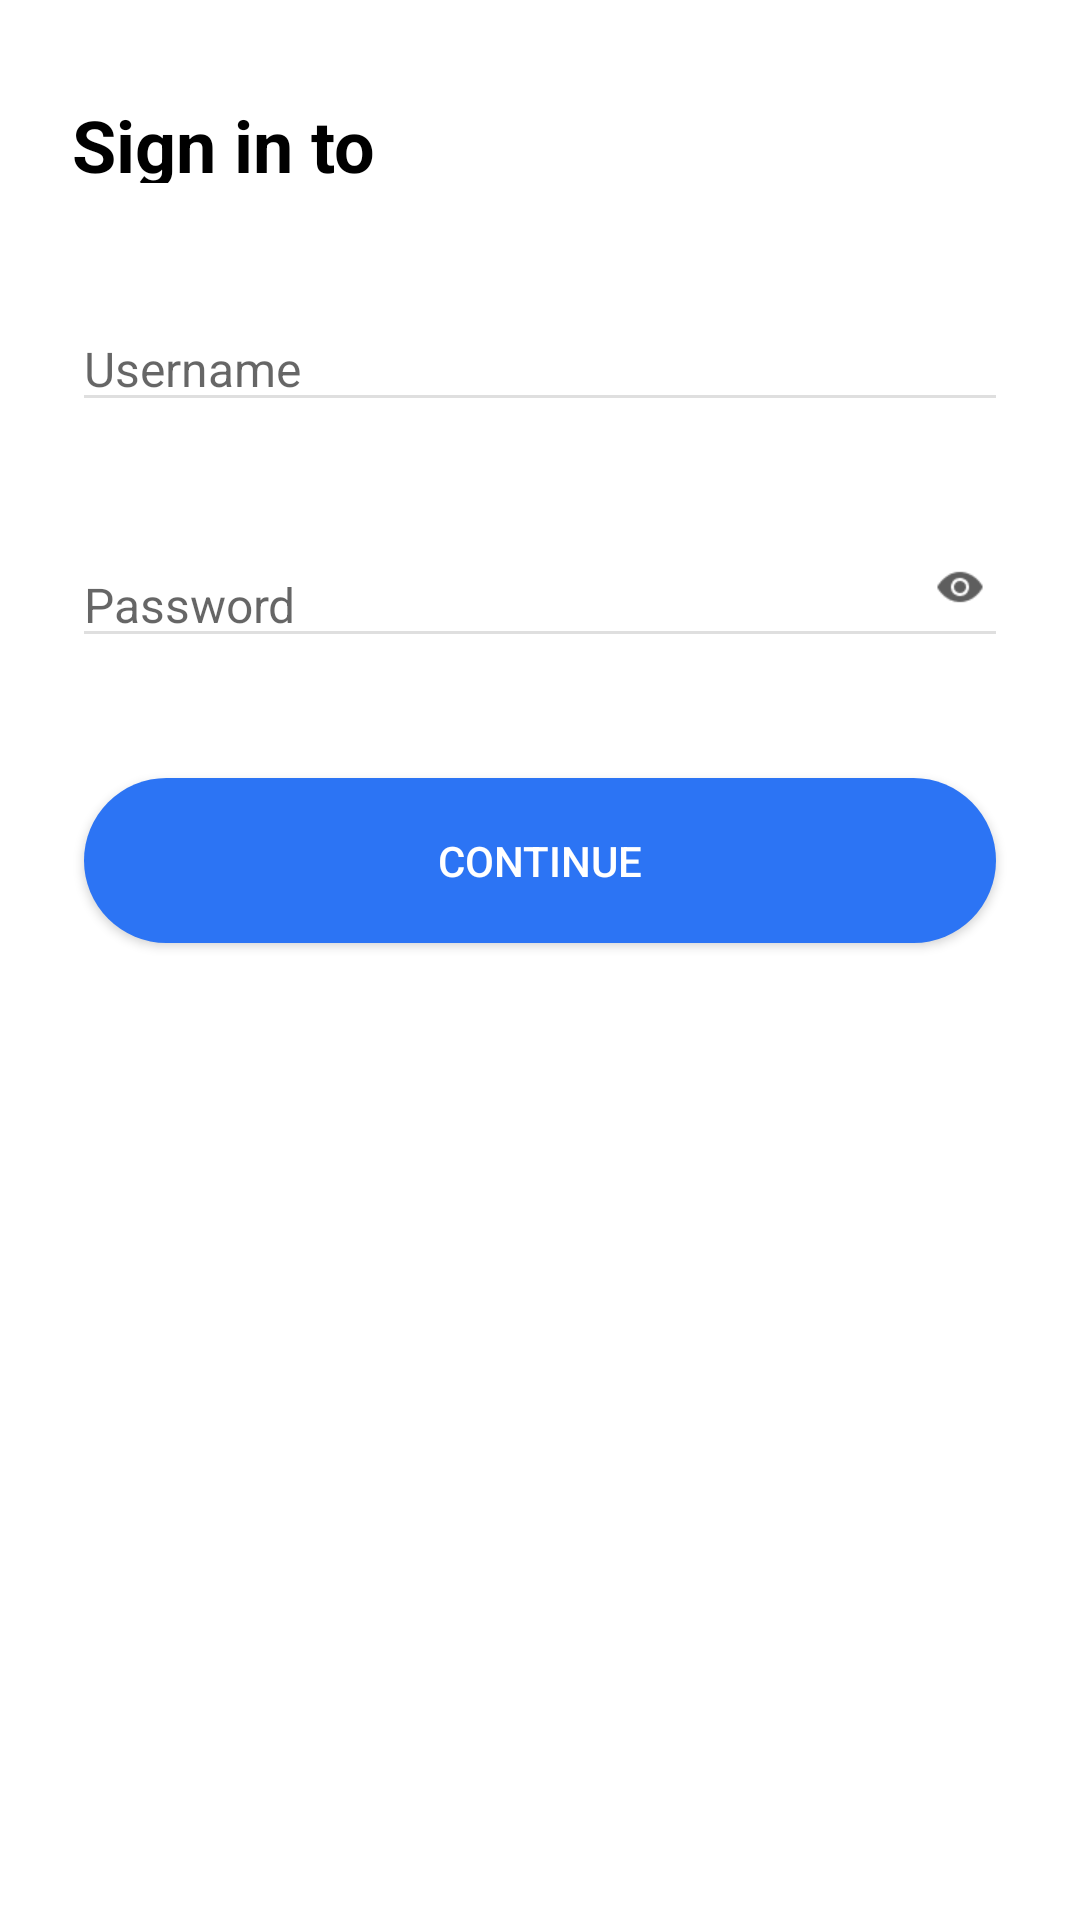

Where icons sit on this 1080px×1920px app screen, as (x1=x1, y1=y1, x2=x2, y2=y2):
eye: (x1=937, y1=571, x2=983, y2=603)
